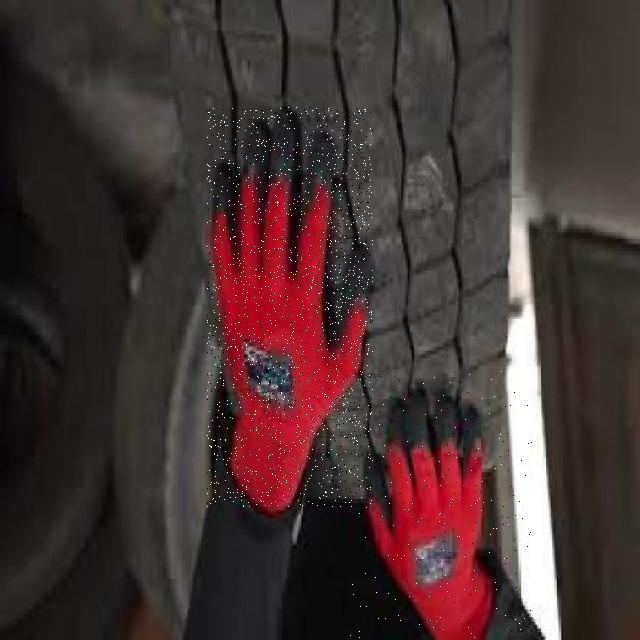gloves: (205, 160, 368, 509), (358, 394, 499, 632)
